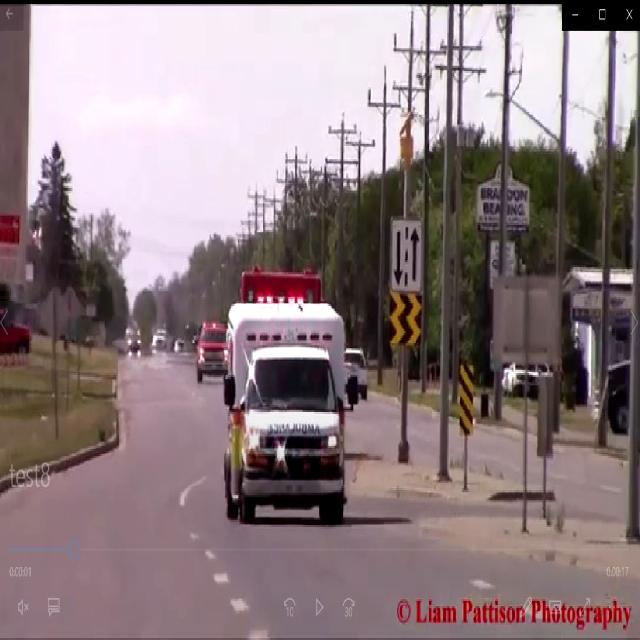emergency: (223, 303, 355, 522), (234, 264, 334, 394), (191, 319, 233, 380)
